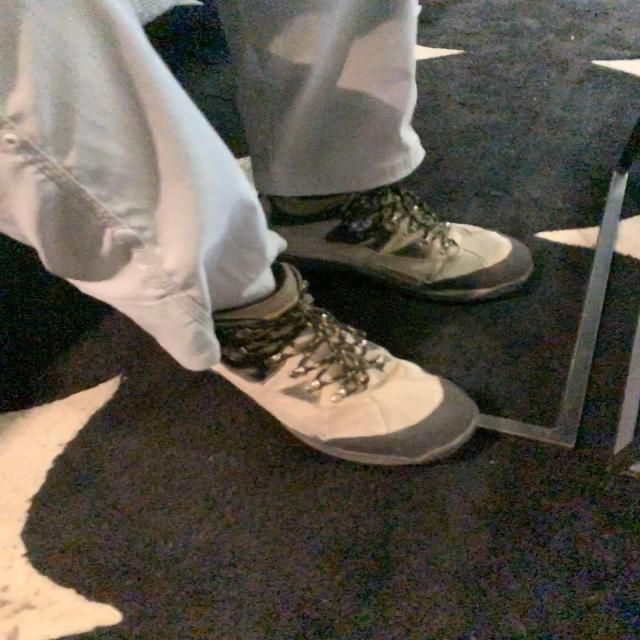shoe: (212, 265, 489, 470), (289, 190, 526, 295)
